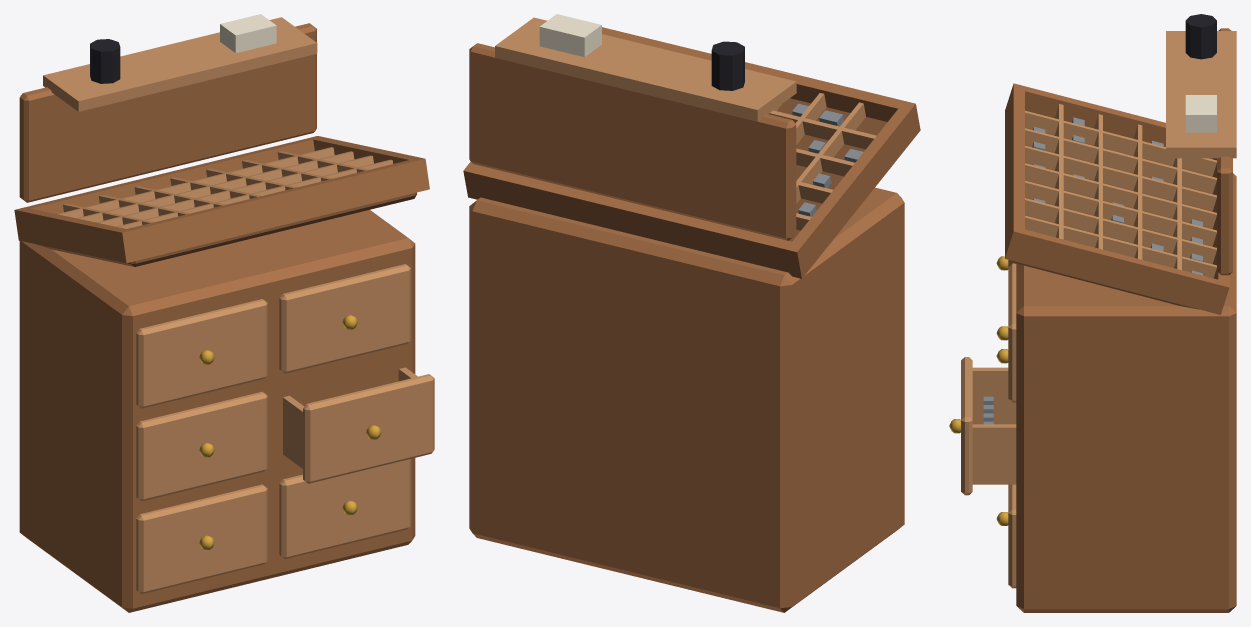
File: type_case.glb
3 renders of one model, left to right at view 1: azimuth 30°, elevation 25°; view 2: azimuth 150°, elevation 25°; view 3: azimuth 270°, elevation 25°, orthographic. The views are drawn at different scales.
Parts seen in each view (by area): view 1: type_case; view 2: type_case; view 3: type_case.
Part boxes in pixels (x1,y1,x2,y2): type_case: (14,14,434,612); type_case: (463,14,920,612); type_case: (949,14,1236,612).
Bounding box in the file's own units: 0.89 × 1.36 × 0.73.
